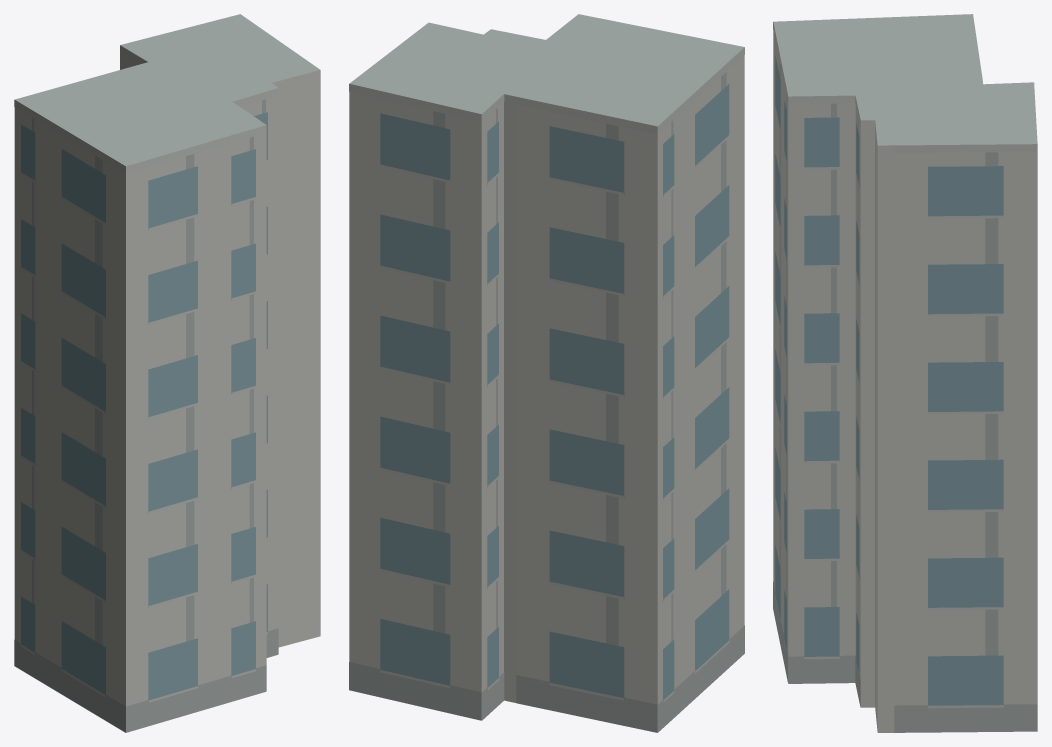
Rendered from survey-upis-32978647.glb.
3 views of the same model, side by side, from view 1: azimuth 30°, elevation 25°; view 2: azimuth 150°, elevation 25°; view 3: azimuth 270°, elevation 25° (orthographic). The views are drawn at different scales.
Visible parts, largest first — view 1: survey-upis-32978647.tmp; view 2: survey-upis-32978647.tmp; view 3: survey-upis-32978647.tmp.
Part boxes in pixels (box(x1,y1,x2,y2)): survey-upis-32978647.tmp: box(14, 14, 320, 732); survey-upis-32978647.tmp: box(349, 14, 744, 732); survey-upis-32978647.tmp: box(773, 14, 1037, 732).
Bounding box in the file's own units: 8.79 × 18.3 × 7.47.
